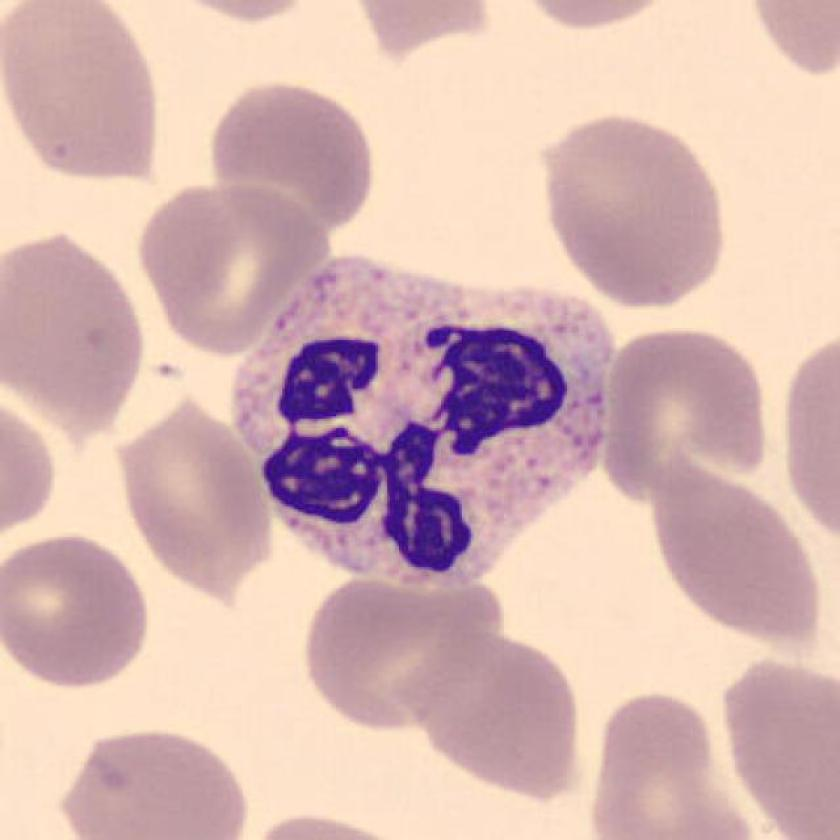neutrophil: (236, 257, 611, 594)
